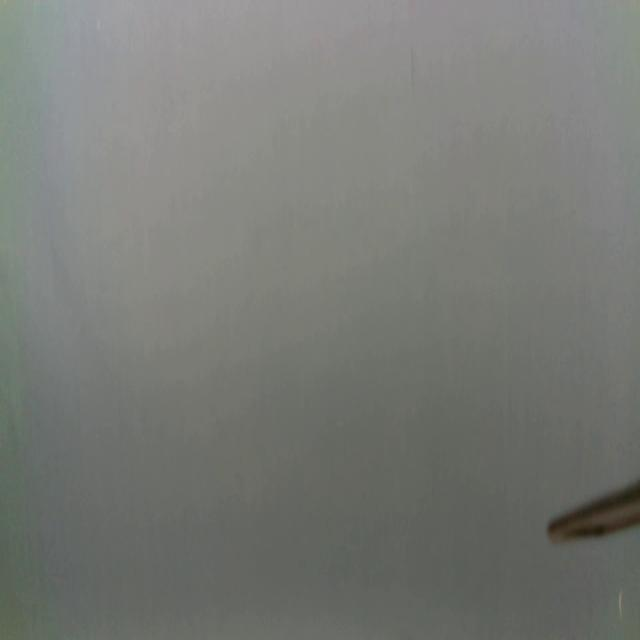hole: (618, 588, 624, 622)
